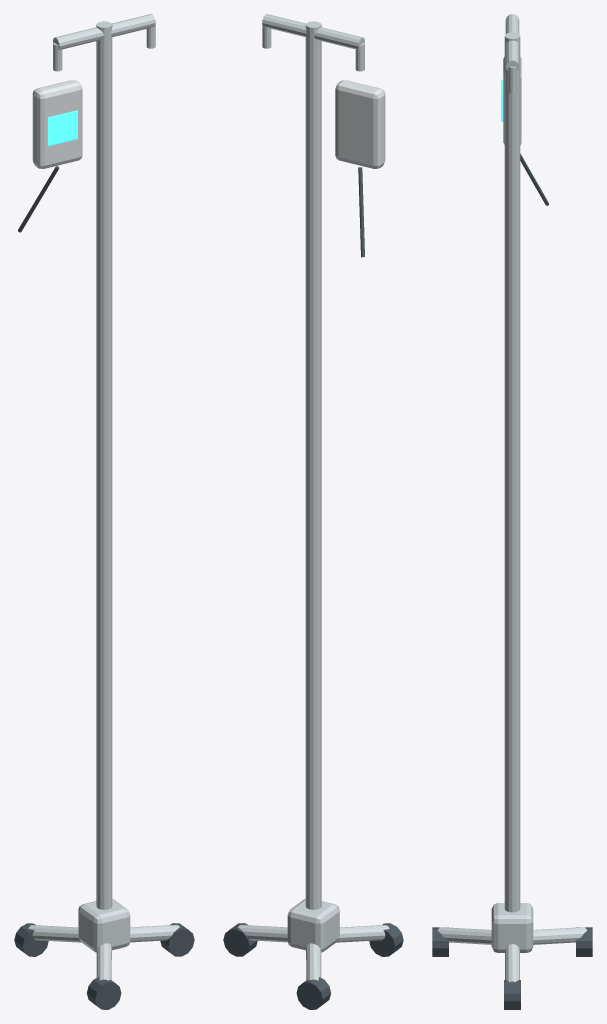
Rendered from IVStand.glb.
3 renders of one model, left to right at view 1: azimuth 30°, elevation 25°; view 2: azimuth 150°, elevation 25°; view 3: azimuth 270°, elevation 25°, orthographic.
Visible parts, largest first — view 1: IVStand_metal_01, IVStand_white_01, IVStand_rubber_01, IVStand_accent_01; view 2: IVStand_metal_01, IVStand_white_01, IVStand_rubber_01; view 3: IVStand_metal_01, IVStand_rubber_01.
Boxes of the visible parts, x1,y1,x2,y2 form: IVStand_metal_01: [28, 14, 179, 980]; IVStand_white_01: [32, 80, 82, 168]; IVStand_rubber_01: [14, 166, 194, 1009]; IVStand_accent_01: [47, 110, 77, 146]; IVStand_metal_01: [238, 14, 389, 980]; IVStand_white_01: [335, 80, 385, 168]; IVStand_rubber_01: [223, 167, 403, 1009]; IVStand_metal_01: [437, 14, 587, 982]; IVStand_rubber_01: [432, 153, 592, 1009].
Bounding box in the file's own units: 1.07 × 6.2 × 0.96.
